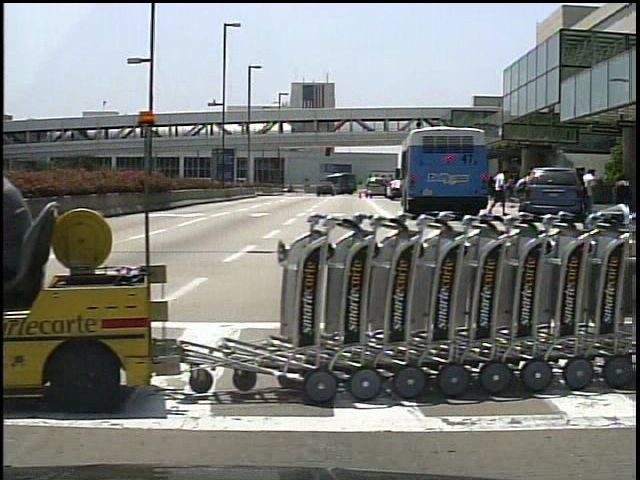person: (3, 139, 39, 299), (580, 165, 601, 214), (513, 168, 533, 217), (492, 166, 511, 216)
